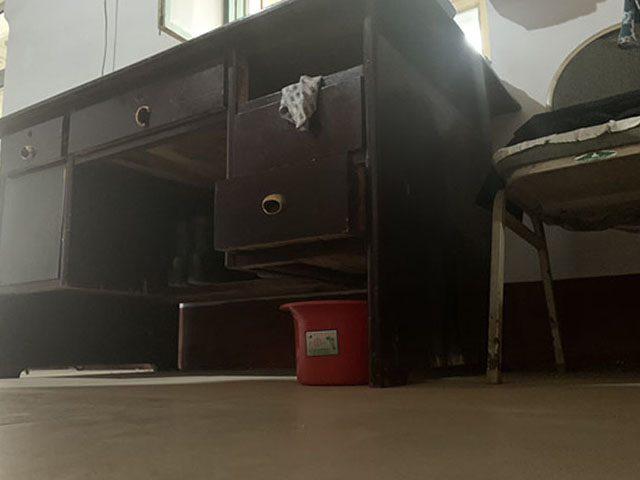cabinet: (1, 1, 499, 386)
stool: (481, 22, 640, 387)
trashcan: (278, 298, 372, 387)
